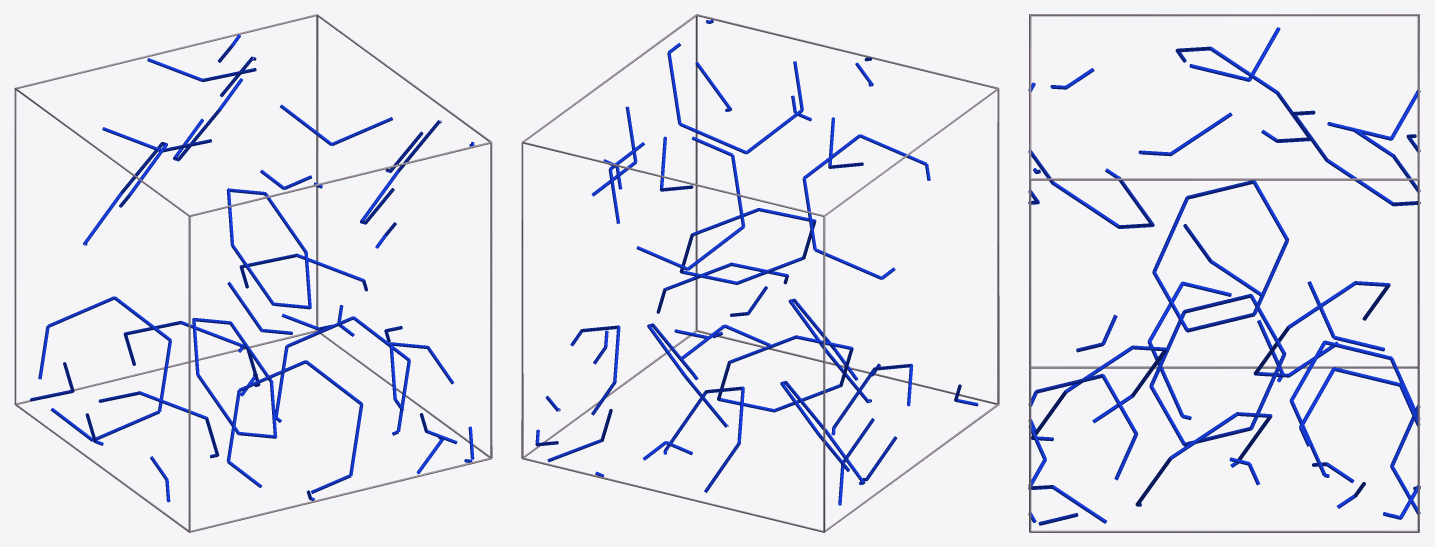
The model's file is DDD000.glb.
The picture shows the model from 3 angles, left to right: view 1: azimuth 30°, elevation 25°; view 2: azimuth 150°, elevation 25°; view 3: azimuth 270°, elevation 25°; orthographic projection. The views are drawn at different scales.
Parts seen in each view (by area): view 1: Shape_IndexedLineSet.001, Shape_IndexedLineSet; view 2: Shape_IndexedLineSet.001, Shape_IndexedLineSet; view 3: Shape_IndexedLineSet.001, Shape_IndexedLineSet.
Part boxes in pixels (bbox=[...]): Shape_IndexedLineSet.001: bbox=[30, 34, 474, 502]; Shape_IndexedLineSet: bbox=[14, 14, 492, 532]; Shape_IndexedLineSet.001: bbox=[535, 19, 978, 505]; Shape_IndexedLineSet: bbox=[521, 14, 999, 532]; Shape_IndexedLineSet.001: bbox=[1028, 27, 1420, 525]; Shape_IndexedLineSet: bbox=[1029, 14, 1419, 532].
Bounding box in the file's own units: 10.09 × 10.09 × 10.09.
